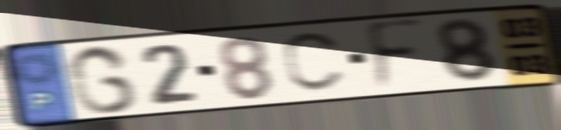2: (139, 42, 202, 107)
8: (434, 15, 499, 86), (215, 34, 277, 102)
C: (279, 29, 347, 95)
F: (363, 15, 428, 96)
G: (65, 42, 141, 116)
